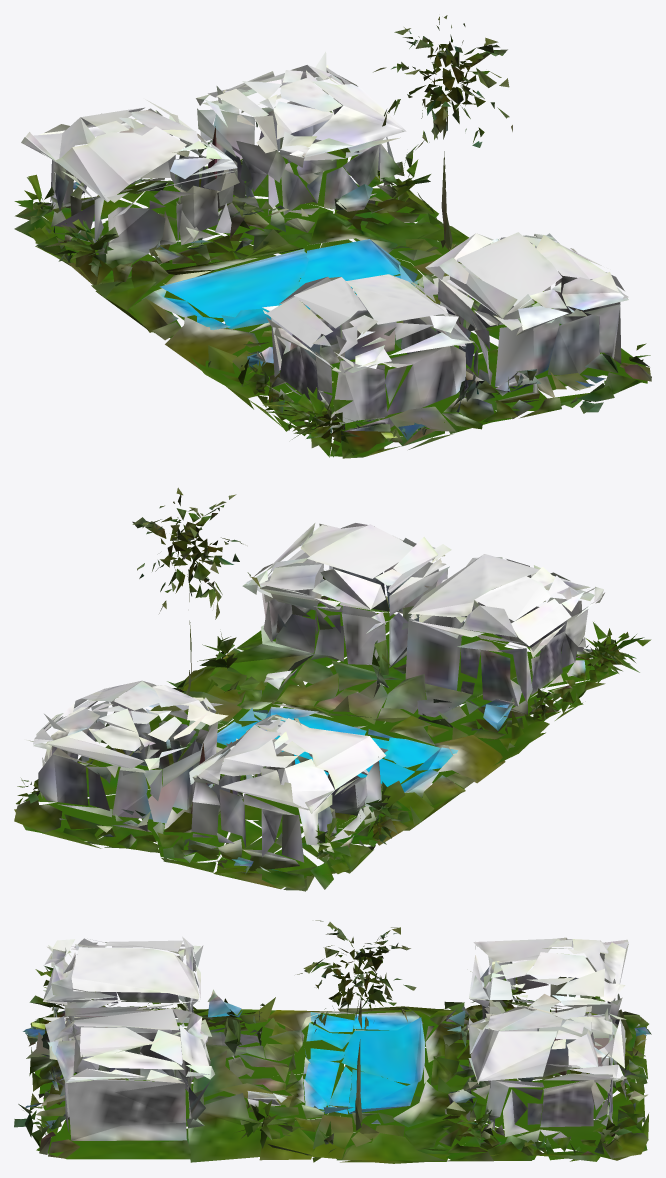
Rendered from loc_sy_bld_resort.glb.
3 views of the same model, one above another, from view 1: azimuth 30°, elevation 25°; view 2: azimuth 150°, elevation 25°; view 3: azimuth 270°, elevation 25° (orthographic). The views are drawn at different scales.
Visible parts, largest first — view 1: tripo_node_c4ebad64-d0bb-44bf-b81d-63c1704c3c4f; view 2: tripo_node_c4ebad64-d0bb-44bf-b81d-63c1704c3c4f; view 3: tripo_node_c4ebad64-d0bb-44bf-b81d-63c1704c3c4f.
Boxes of the visible parts, <box> form: tripo_node_c4ebad64-d0bb-44bf-b81d-63c1704c3c4f: <box>14,15,651,458</box>; tripo_node_c4ebad64-d0bb-44bf-b81d-63c1704c3c4f: <box>14,487,651,891</box>; tripo_node_c4ebad64-d0bb-44bf-b81d-63c1704c3c4f: <box>14,920,651,1163</box>.
Size of the model in its own units: 1.77 by 1.07 by 2.77.
1 material, 1 textured.
